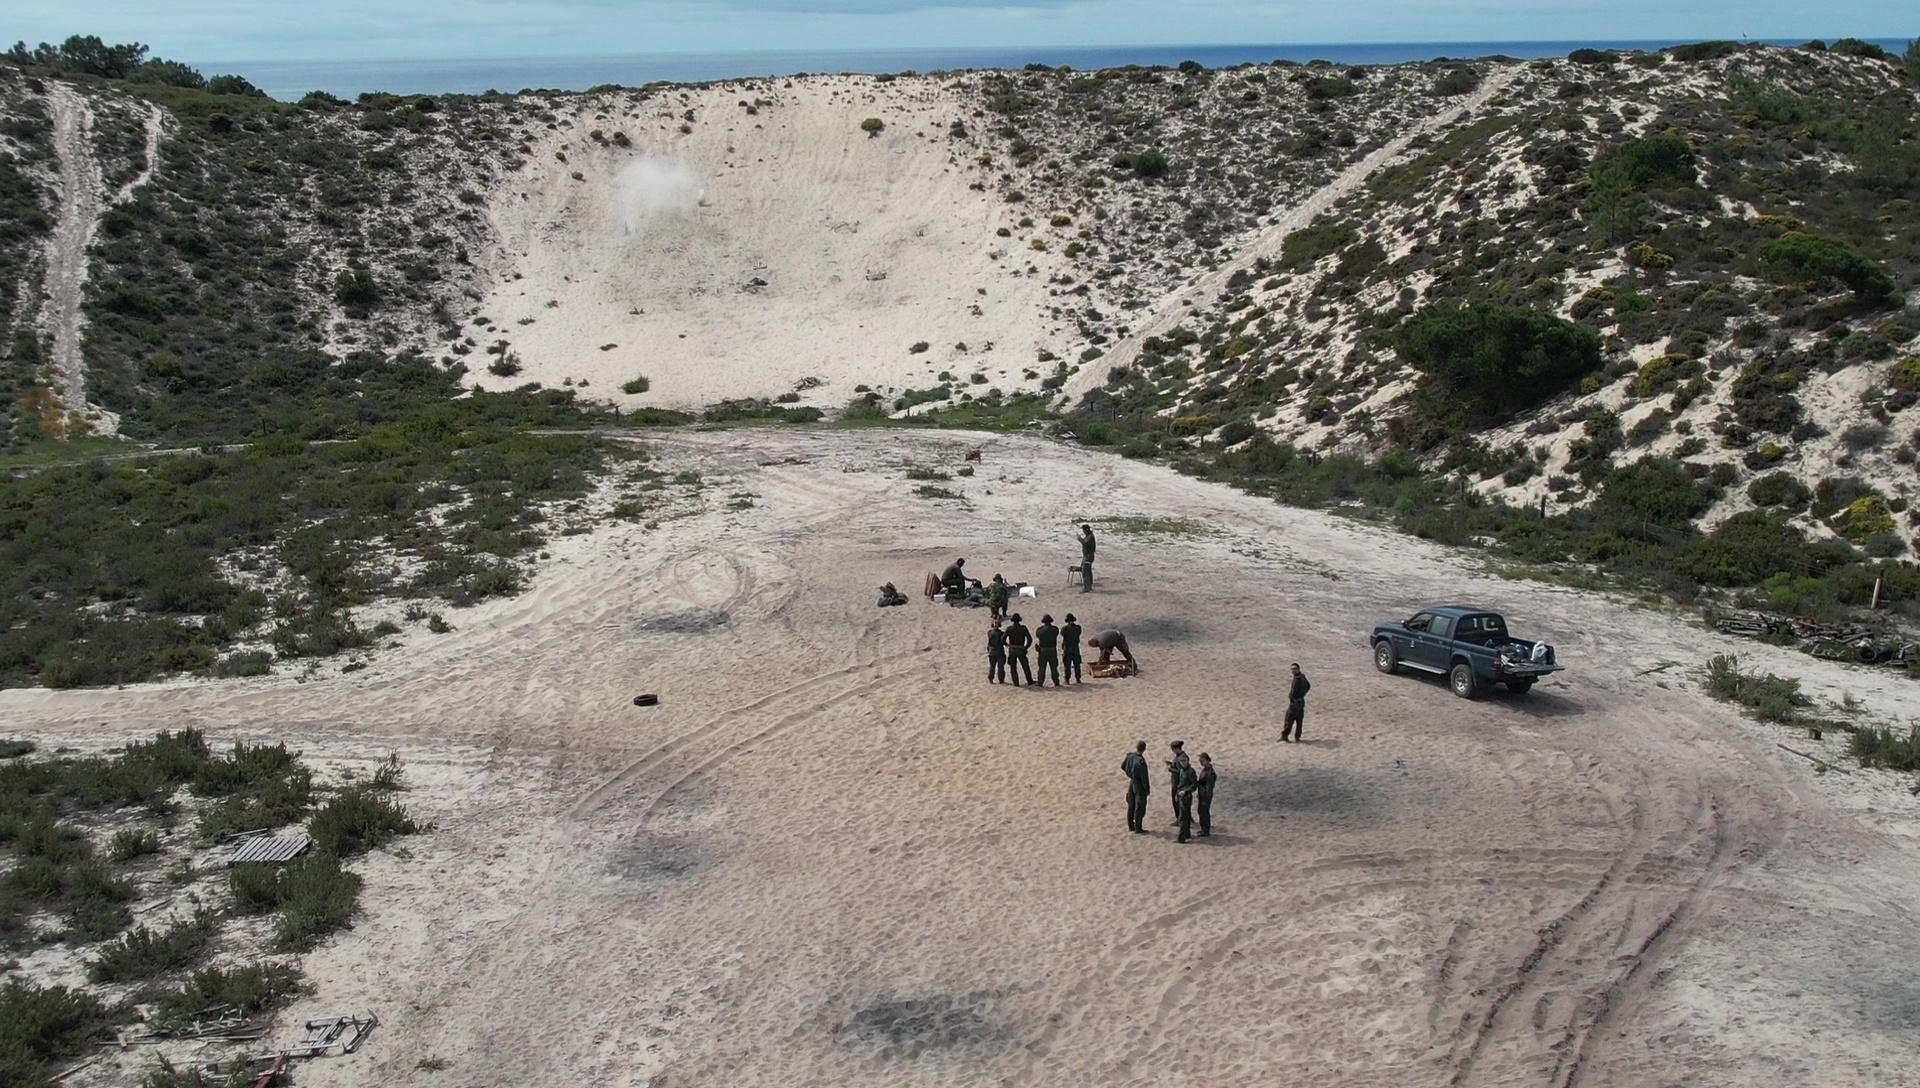Soldier: (1115, 738, 1158, 841), (1031, 605, 1065, 697), (1280, 655, 1311, 751), (1167, 748, 1198, 844), (1193, 750, 1223, 848), (1073, 518, 1108, 595), (1060, 606, 1090, 690), (1008, 607, 1037, 692), (1095, 627, 1138, 684), (983, 611, 1009, 688), (940, 553, 973, 602)
